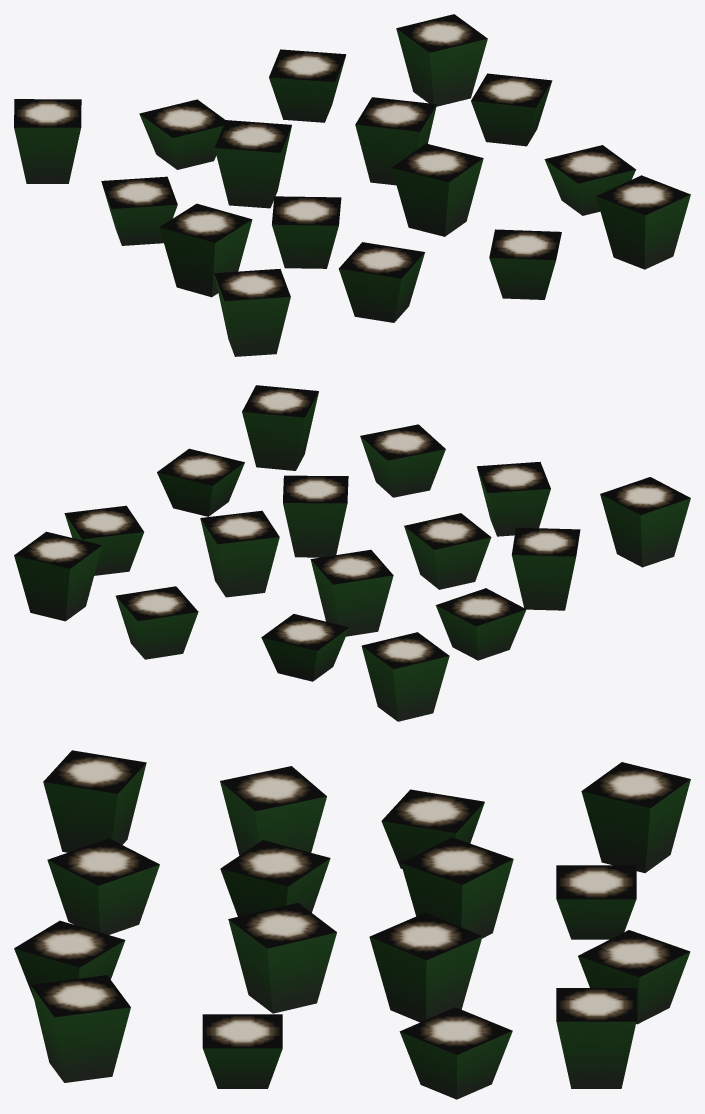
The model's file is deco_winter_grassCut.FBX.
3 renders of one model, top to bottom at view 1: azimuth 30°, elevation 25°; view 2: azimuth 150°, elevation 25°; view 3: azimuth 270°, elevation 25°, orthographic. The views are drawn at different scales.
Parts seen in each view (by area): view 1: deco_winter_grassCut; view 2: deco_winter_grassCut; view 3: deco_winter_grassCut.
Part boxes in pixels (bbox=[...]): deco_winter_grassCut: bbox=[14, 14, 690, 356]; deco_winter_grassCut: bbox=[14, 385, 690, 721]; deco_winter_grassCut: bbox=[14, 750, 690, 1099].
Size of the model in its own units: 1.9 by 0.2295 by 1.91.
1 material, 1 textured.
